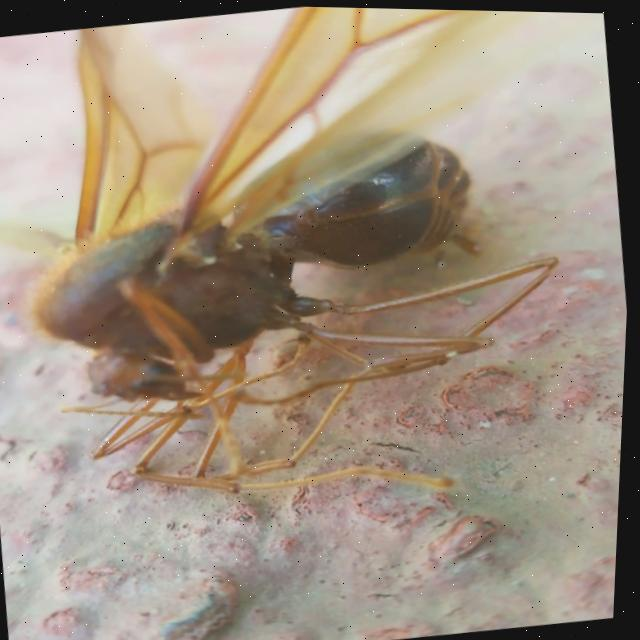Dead-Male-Alate: (0, 0, 640, 539)
